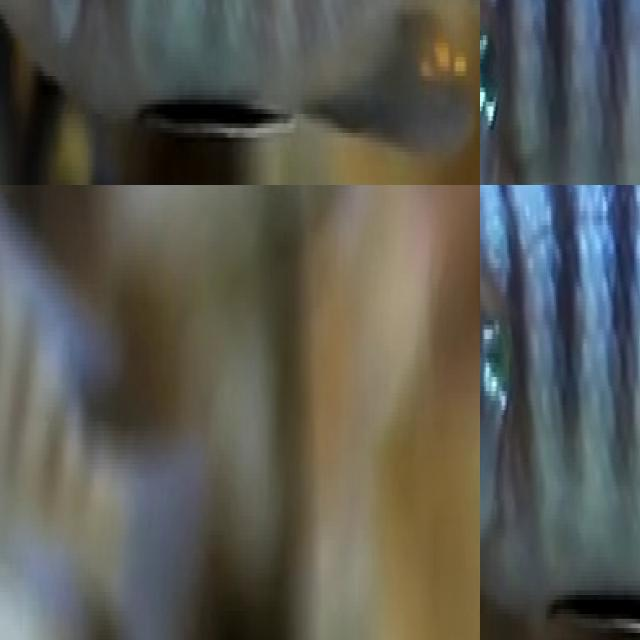fish: (0, 0, 480, 185), (480, 0, 640, 185)
